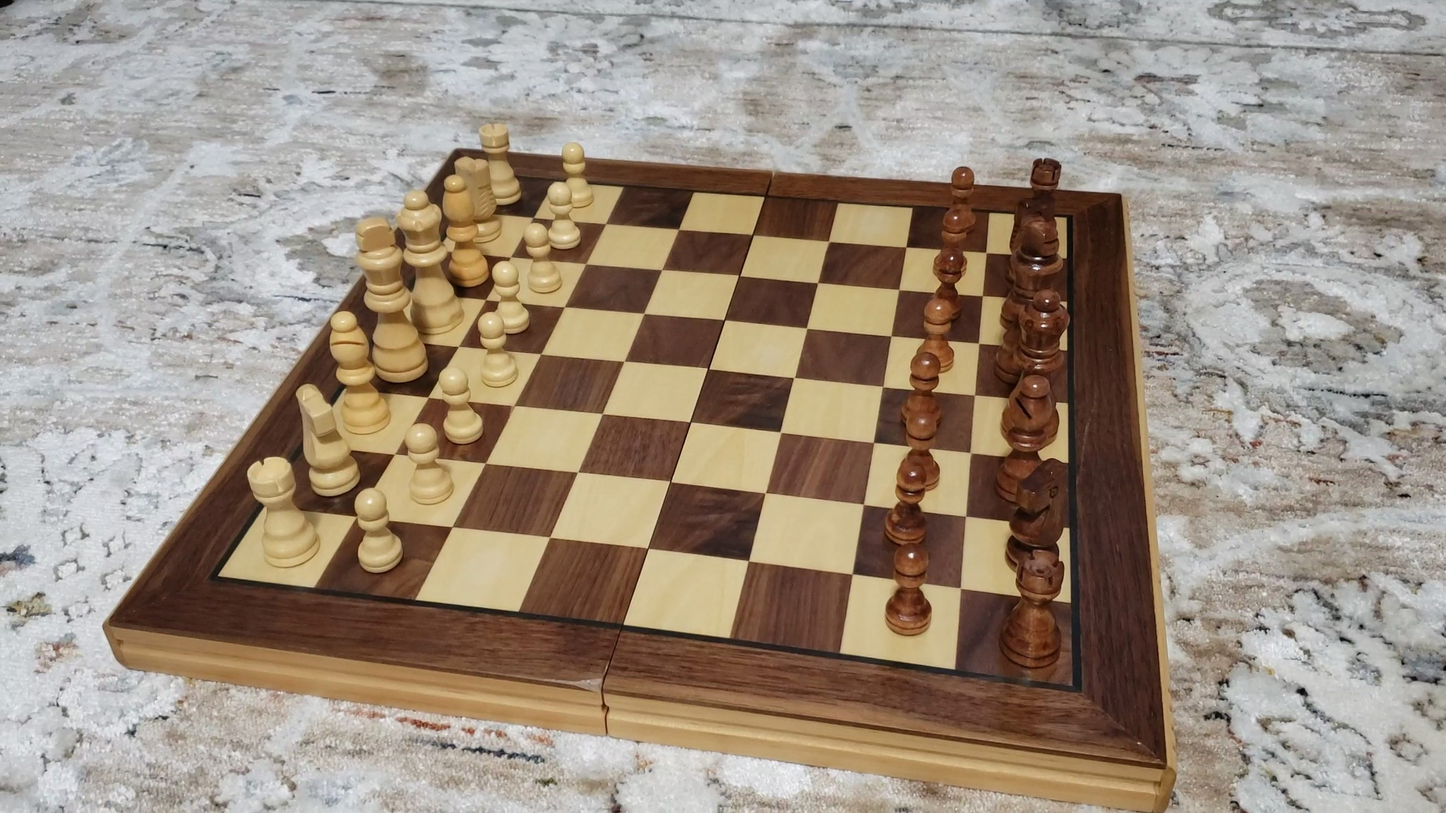black-bishop: (983, 367, 1063, 507)
black-king: (997, 215, 1077, 293)
black-knight: (1001, 460, 1069, 573)
black-pawn: (891, 405, 956, 496), (883, 448, 941, 548), (881, 543, 934, 639), (902, 350, 943, 440), (914, 296, 957, 375), (927, 246, 969, 325), (933, 203, 976, 278), (942, 161, 978, 238)
black-queen: (999, 286, 1089, 375)
black-rook: (998, 552, 1068, 670), (1016, 153, 1076, 209)
white-bishop: (323, 308, 390, 435), (437, 172, 488, 291)
white-king: (352, 210, 428, 389)
white-knight: (291, 383, 361, 502), (446, 150, 503, 245)
white-pawn: (345, 485, 412, 579), (395, 421, 460, 509), (429, 366, 489, 448), (471, 309, 522, 391), (515, 218, 567, 298), (485, 257, 534, 338), (537, 177, 586, 254), (555, 137, 599, 213)
white-queen: (394, 185, 463, 336)
white-rook: (244, 454, 323, 571), (476, 117, 524, 210)
